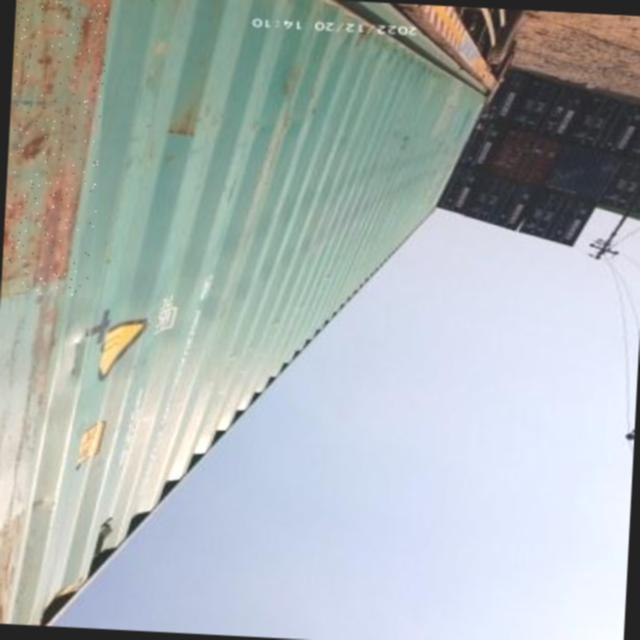Rust: (3, 0, 107, 292)
